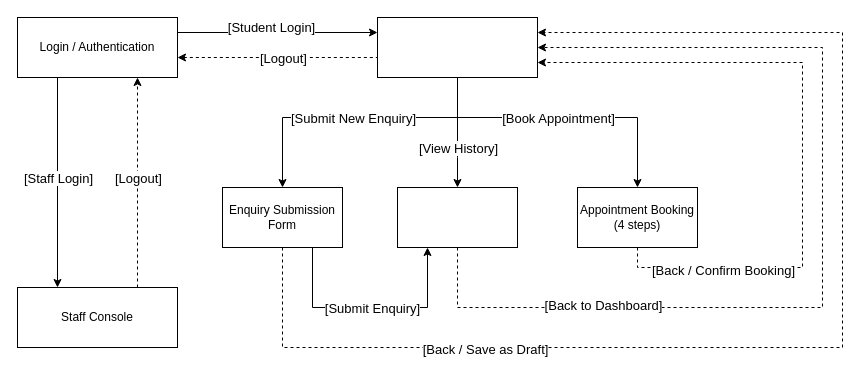
This 868x374 diagram has some shape labels left out. Each missing label, with the centre of its shape:
Enquiry History: the point at 457,217
Student Dashboard: the point at 457,47
